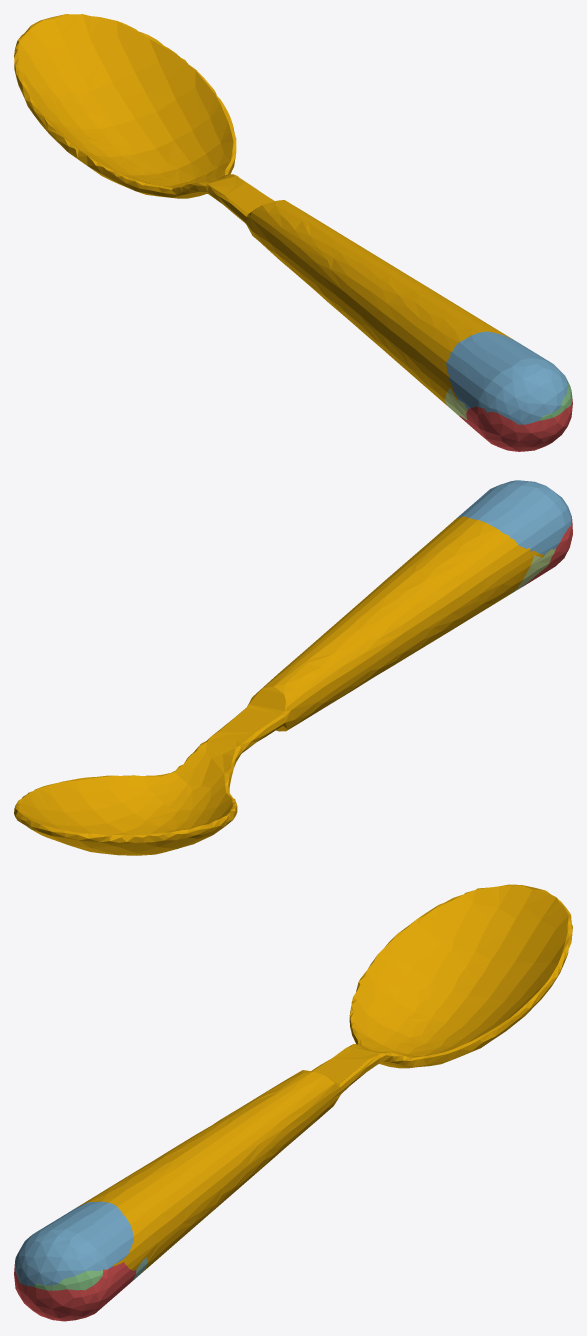
File: mode_17_8pcs.glb
3 renders of one model, top to bottom at view 1: azimuth 30°, elevation 25°; view 2: azimuth 150°, elevation 25°; view 3: azimuth 330°, elevation 25°, orthographic.
Parts seen in each view (by area): view 1: piece_0.obj, piece_2.obj, piece_1.obj; view 2: piece_0.obj, piece_2.obj, piece_1.obj, piece_5.obj; view 3: piece_0.obj, piece_2.obj, piece_1.obj, piece_3.obj.
Part boxes in pixels (left/top/right/bottom): piece_0.obj: left=14, top=14, right=513, bottom=405; piece_2.obj: left=446, top=331, right=568, bottom=424; piece_1.obj: left=459, top=399, right=572, bottom=451; piece_0.obj: left=14, top=516, right=543, bottom=855; piece_2.obj: left=457, top=480, right=571, bottom=555; piece_1.obj: left=522, top=519, right=572, bottom=586; piece_5.obj: left=512, top=548, right=555, bottom=592; piece_0.obj: left=78, top=884, right=572, bottom=1272; piece_2.obj: left=15, top=1201, right=133, bottom=1286; piece_1.obj: left=14, top=1262, right=136, bottom=1321; piece_3.obj: left=33, top=1269, right=102, bottom=1290.
Bounding box in the file's own units: 0.1912 × 0.0966 × 1.
